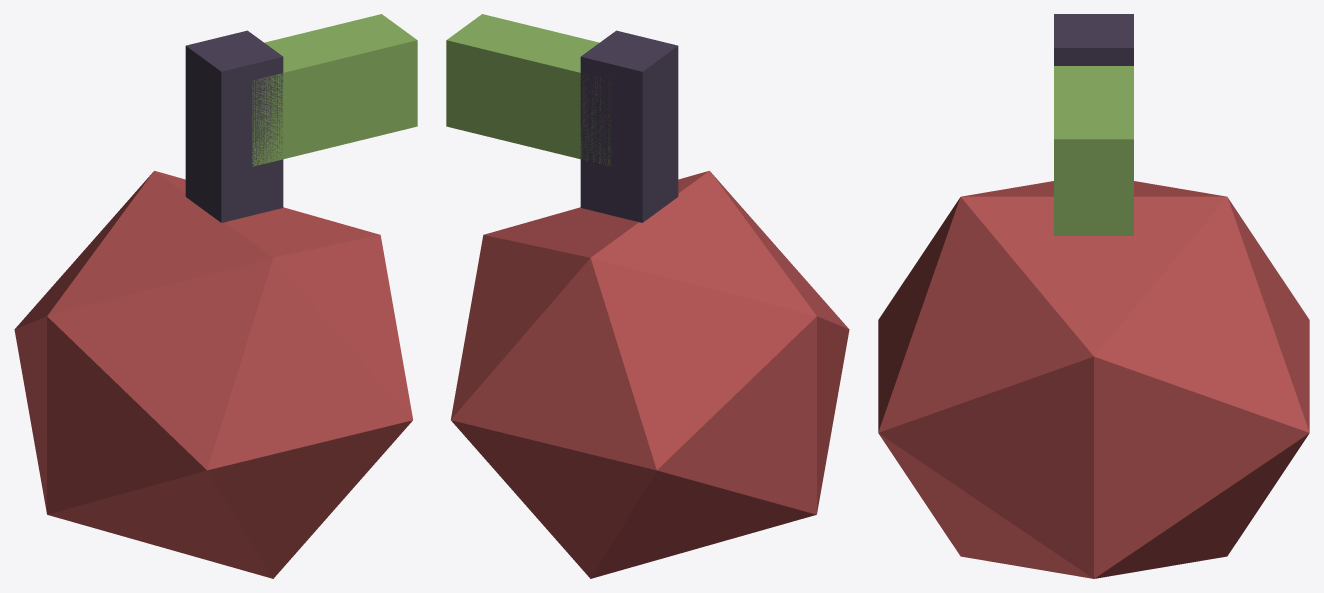
Rendered from apple.glb.
3 renders of one model, left to right at view 1: azimuth 30°, elevation 25°; view 2: azimuth 150°, elevation 25°; view 3: azimuth 270°, elevation 25°, orthographic. The views are drawn at different scales.
Parts seen in each view (by area): view 1: Fruit; view 2: Fruit; view 3: Fruit.
Part boxes in pixels (<box>): Fruit: <box>14,14,417,578</box>; Fruit: <box>446,14,849,578</box>; Fruit: <box>878,14,1309,578</box>.
Size of the model in its own units: 0.3416 by 0.4437 by 0.3232.
